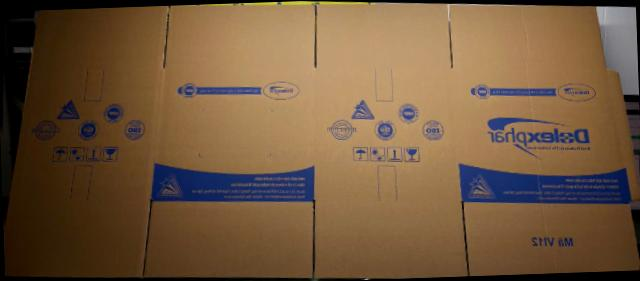box: (4, 3, 639, 278)
